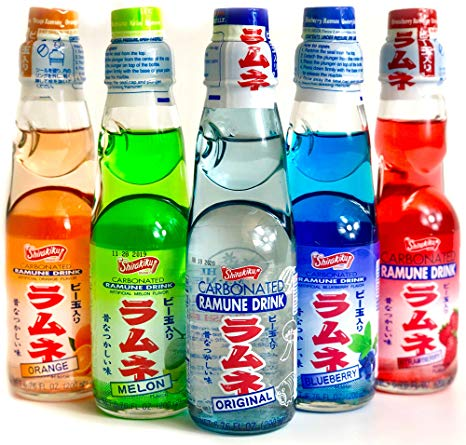bottle: (182, 2, 293, 439), (92, 3, 187, 424), (295, 6, 378, 415)
